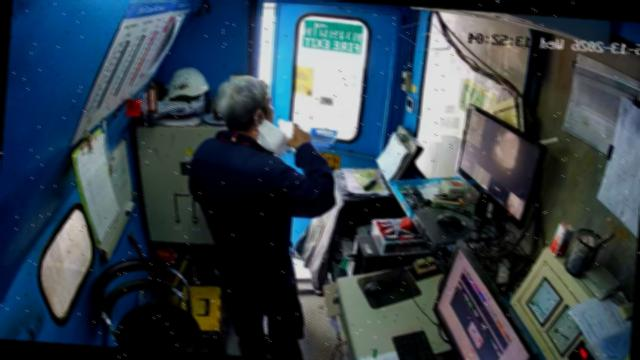Head: (214, 75, 275, 139)
People: (187, 76, 336, 359)
